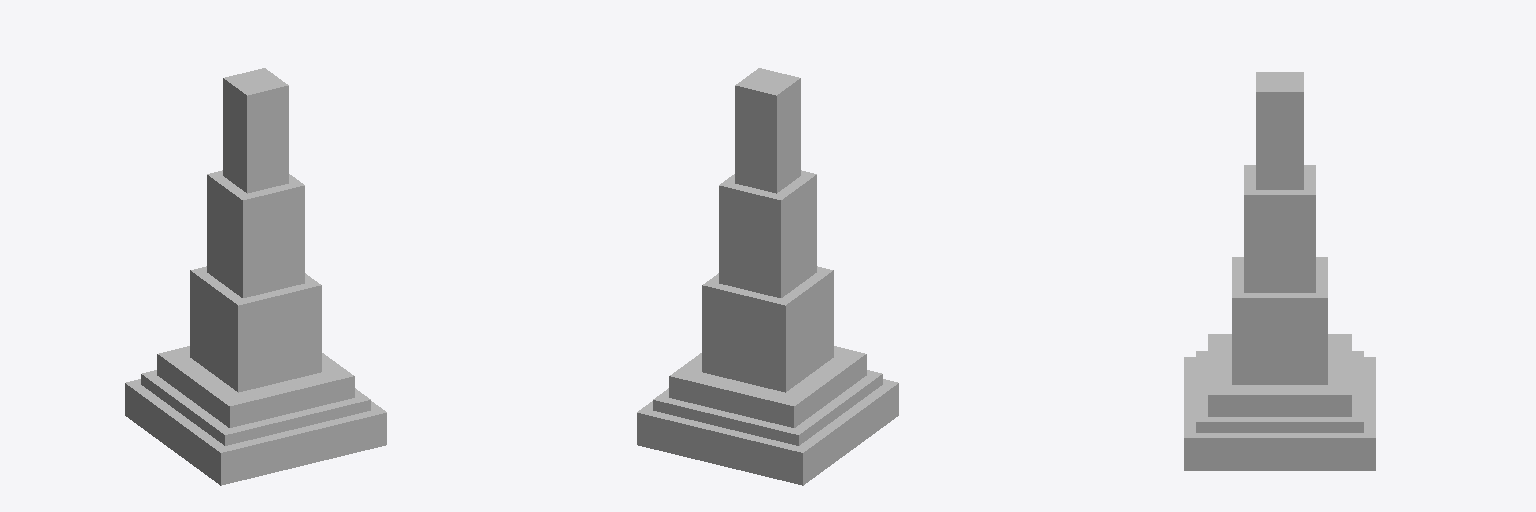
Rendered from speaker.obj.
The picture shows the model from 3 angles: view 1: azimuth 30°, elevation 25°; view 2: azimuth 150°, elevation 25°; view 3: azimuth 270°, elevation 25°; orthographic projection.
Parts seen in each view (by area): view 1: cube; view 2: cube; view 3: cube.
Part boxes in pixels (bbox=[...]): cube: bbox=[125, 68, 386, 485]; cube: bbox=[637, 68, 898, 485]; cube: bbox=[1184, 72, 1375, 470].
Size of the model in its own units: 1 by 2 by 1.